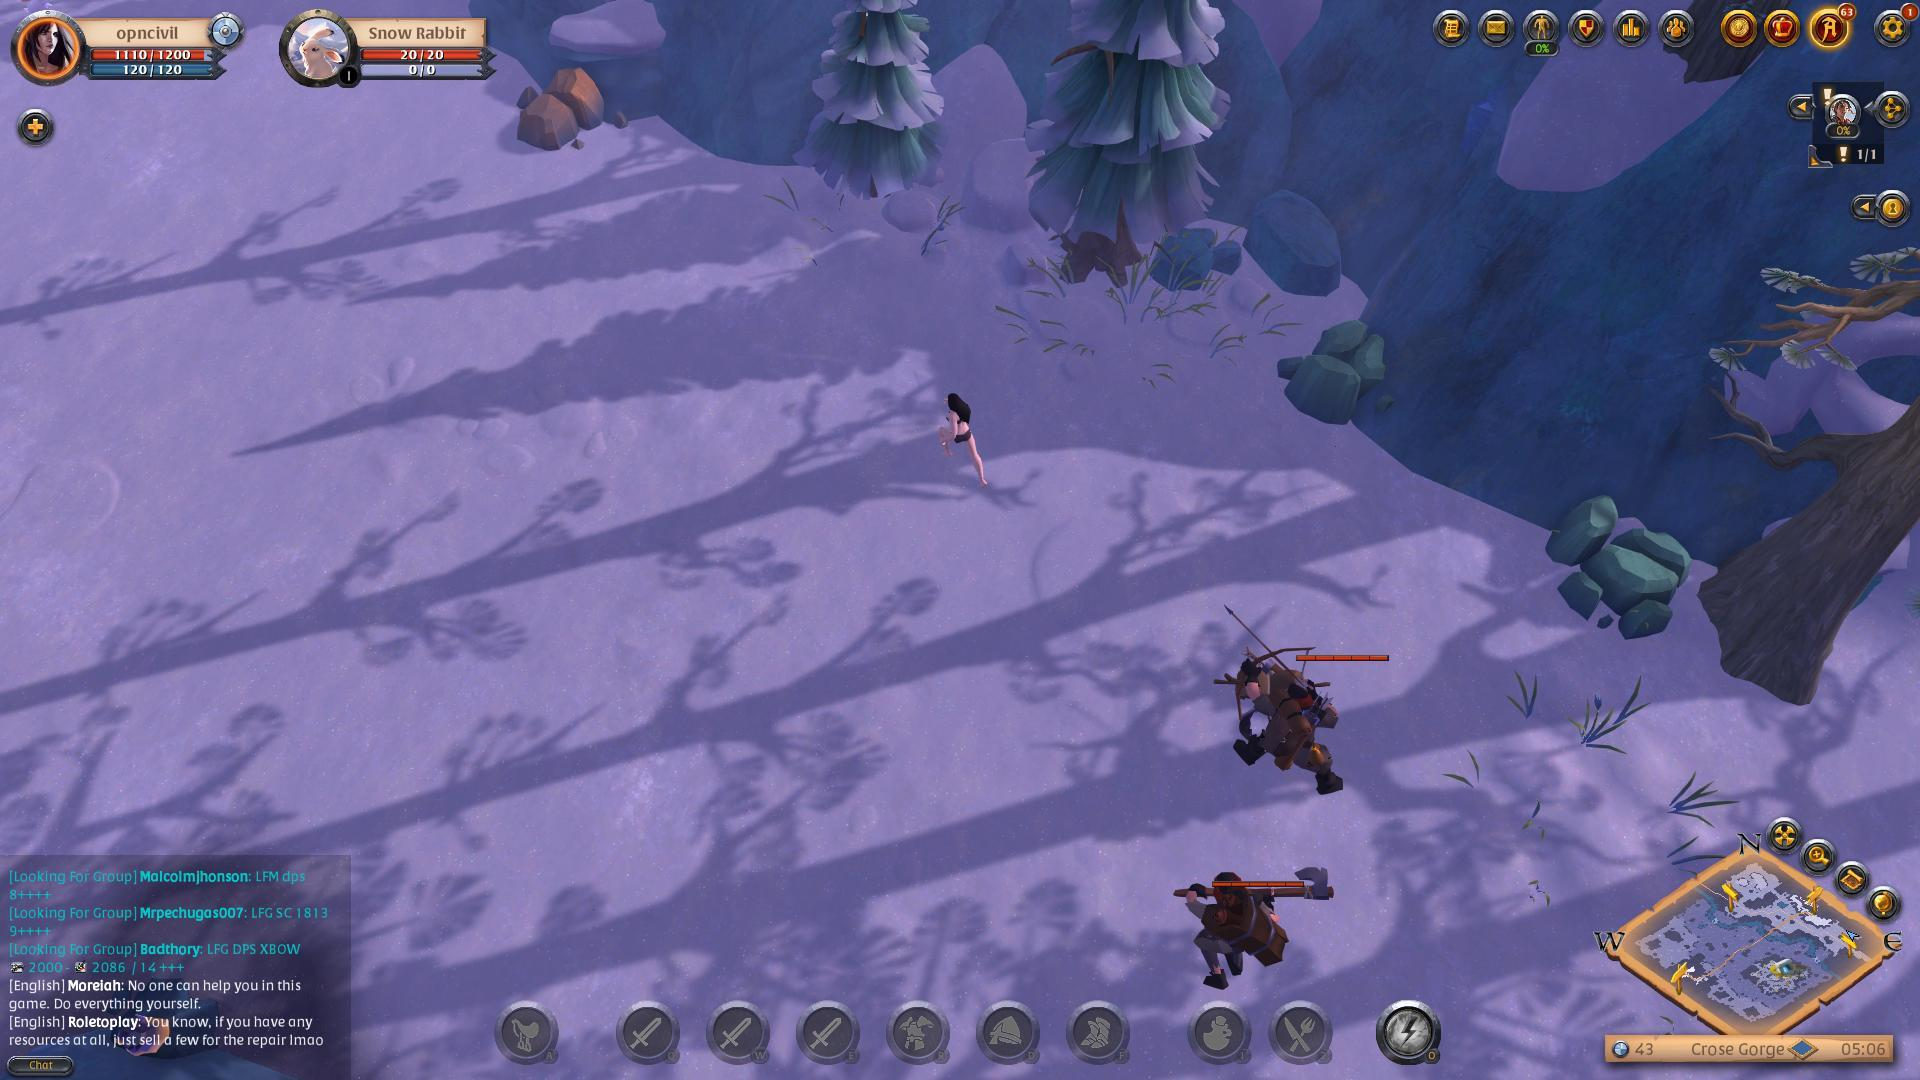limestone: (496, 57, 637, 162)
mob: (1215, 618, 1365, 807), (1163, 852, 1340, 993)
sandstone: (1543, 476, 1702, 649), (1275, 302, 1404, 435)
